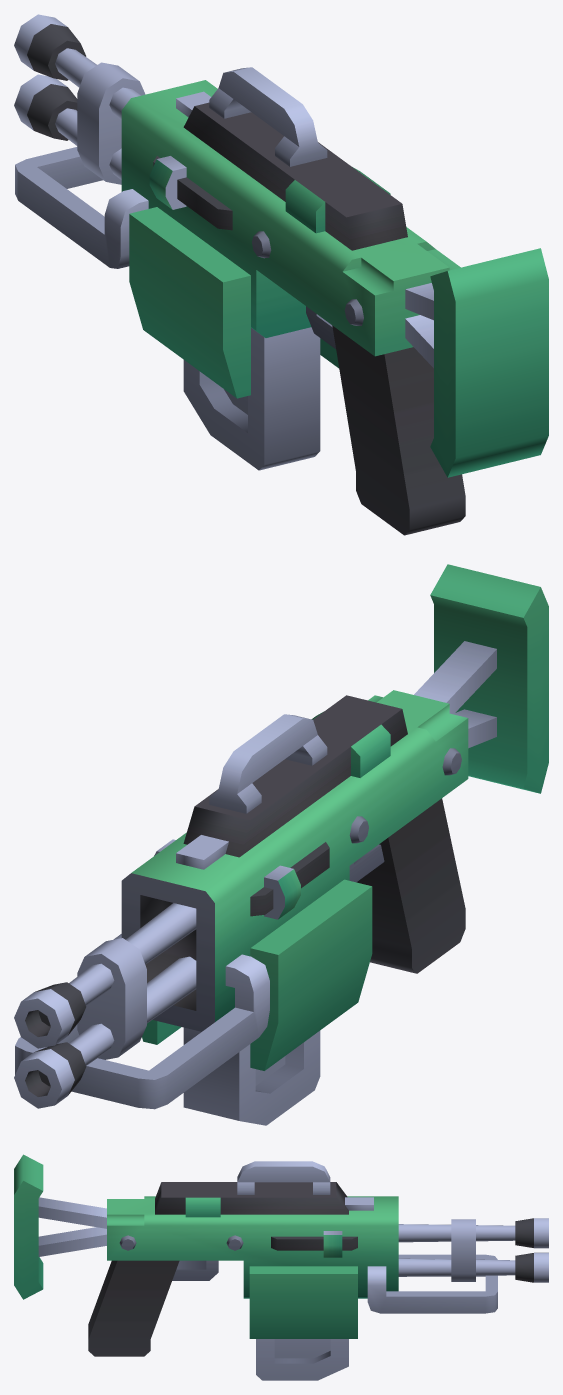
The model's file is blaster-p.glb.
3 renders of one model, top to bottom at view 1: azimuth 30°, elevation 25°; view 2: azimuth 150°, elevation 25°; view 3: azimuth 270°, elevation 25°, orthographic. The views are drawn at different scales.
Visible parts, largest first — view 1: blaster-p, magazine; view 2: blaster-p, magazine; view 3: blaster-p, magazine.
Part boxes in pixels (x1,y1,x2,y2): blaster-p: (14,14,548,535); magazine: (183,327,320,470); blaster-p: (14,564,548,1109); magazine: (183,1027,320,1125); blaster-p: (14,1154,548,1356); magazine: (256,1339,348,1380).
Size of the model in its own units: 0.16 by 0.3709 by 0.8621.
1 material, 1 textured.
